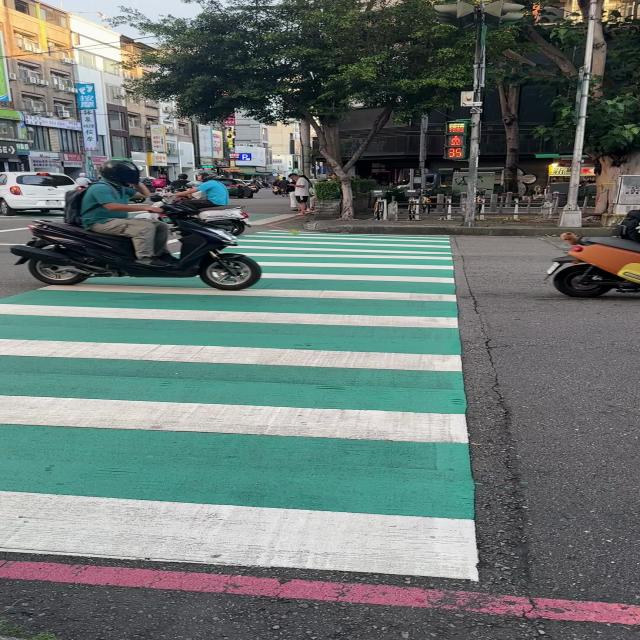car: (0, 171, 77, 215)
crosswalk: (11, 204, 260, 290), (547, 236, 640, 298), (248, 213, 298, 225)
motocycle: (199, 205, 249, 235), (135, 212, 159, 219), (152, 201, 163, 206)
pedestrian: (0, 228, 484, 583), (289, 174, 311, 215)
